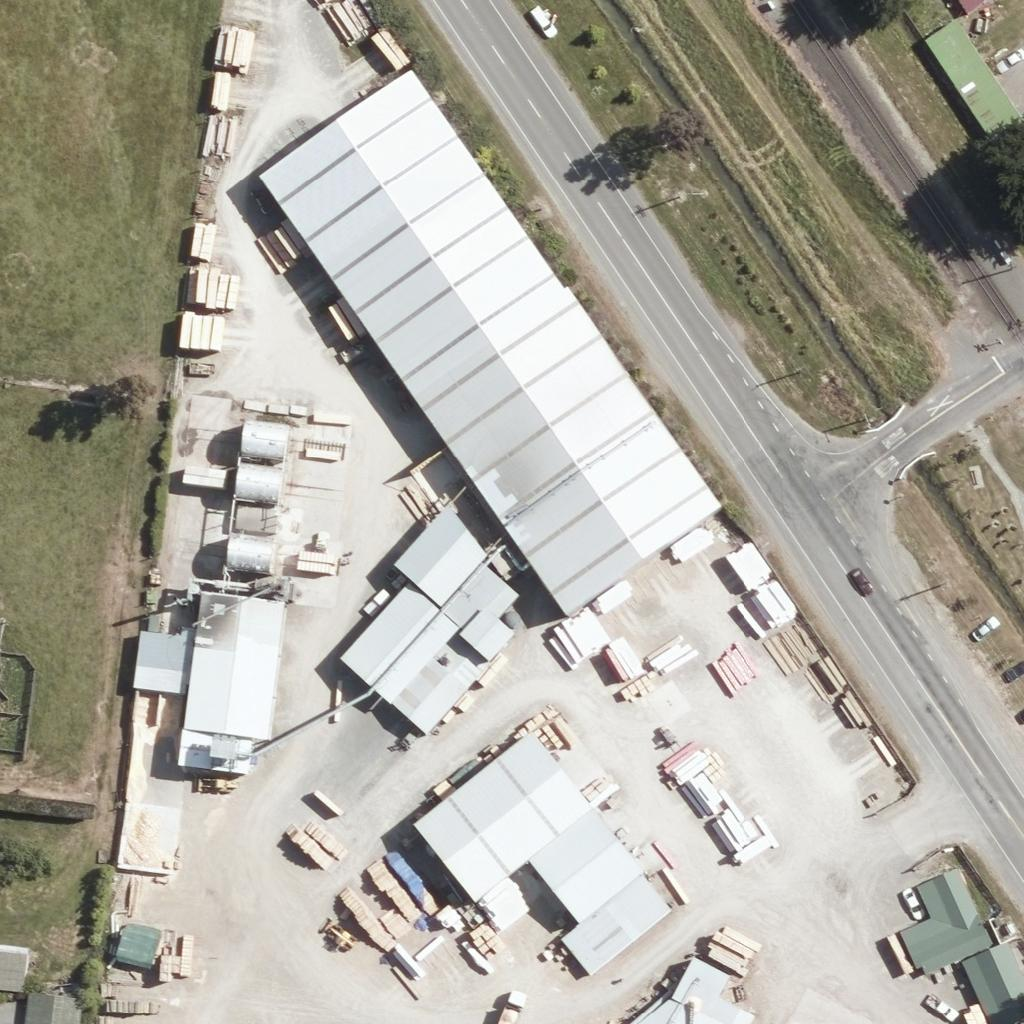car: (526, 2, 560, 36), (843, 563, 877, 597), (966, 611, 1000, 645), (896, 884, 930, 918), (927, 990, 961, 1024), (992, 41, 1024, 75), (1002, 652, 1024, 686)
